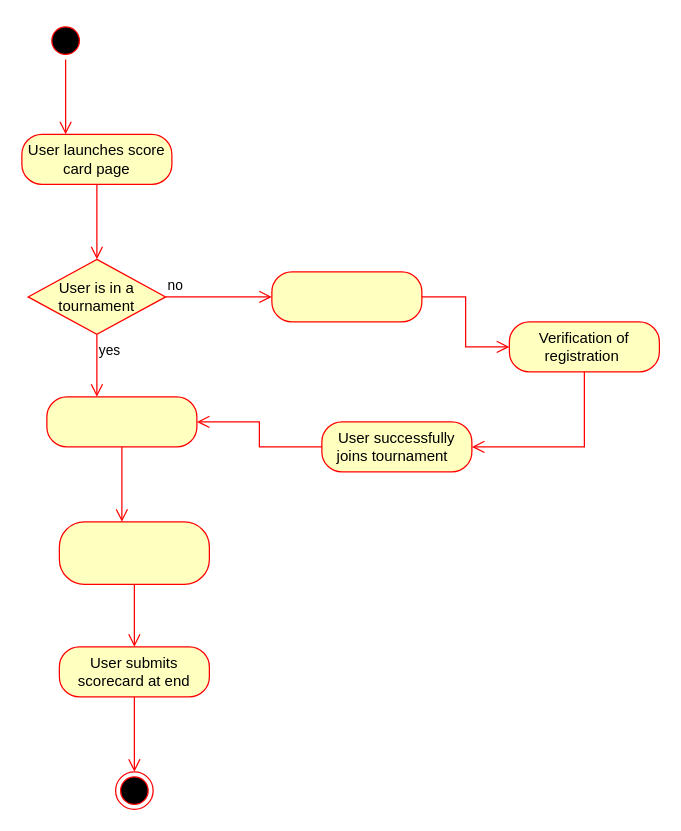
Image size: 681x831. Some labels were removed from this diagram. Each missing label, with the box of its shape:
Scorecard is pulled and displayed: (46, 396, 197, 447)
User Registers for a tournament: (271, 271, 422, 322)
User updates scorecard as game progresses: (58, 521, 209, 584)
